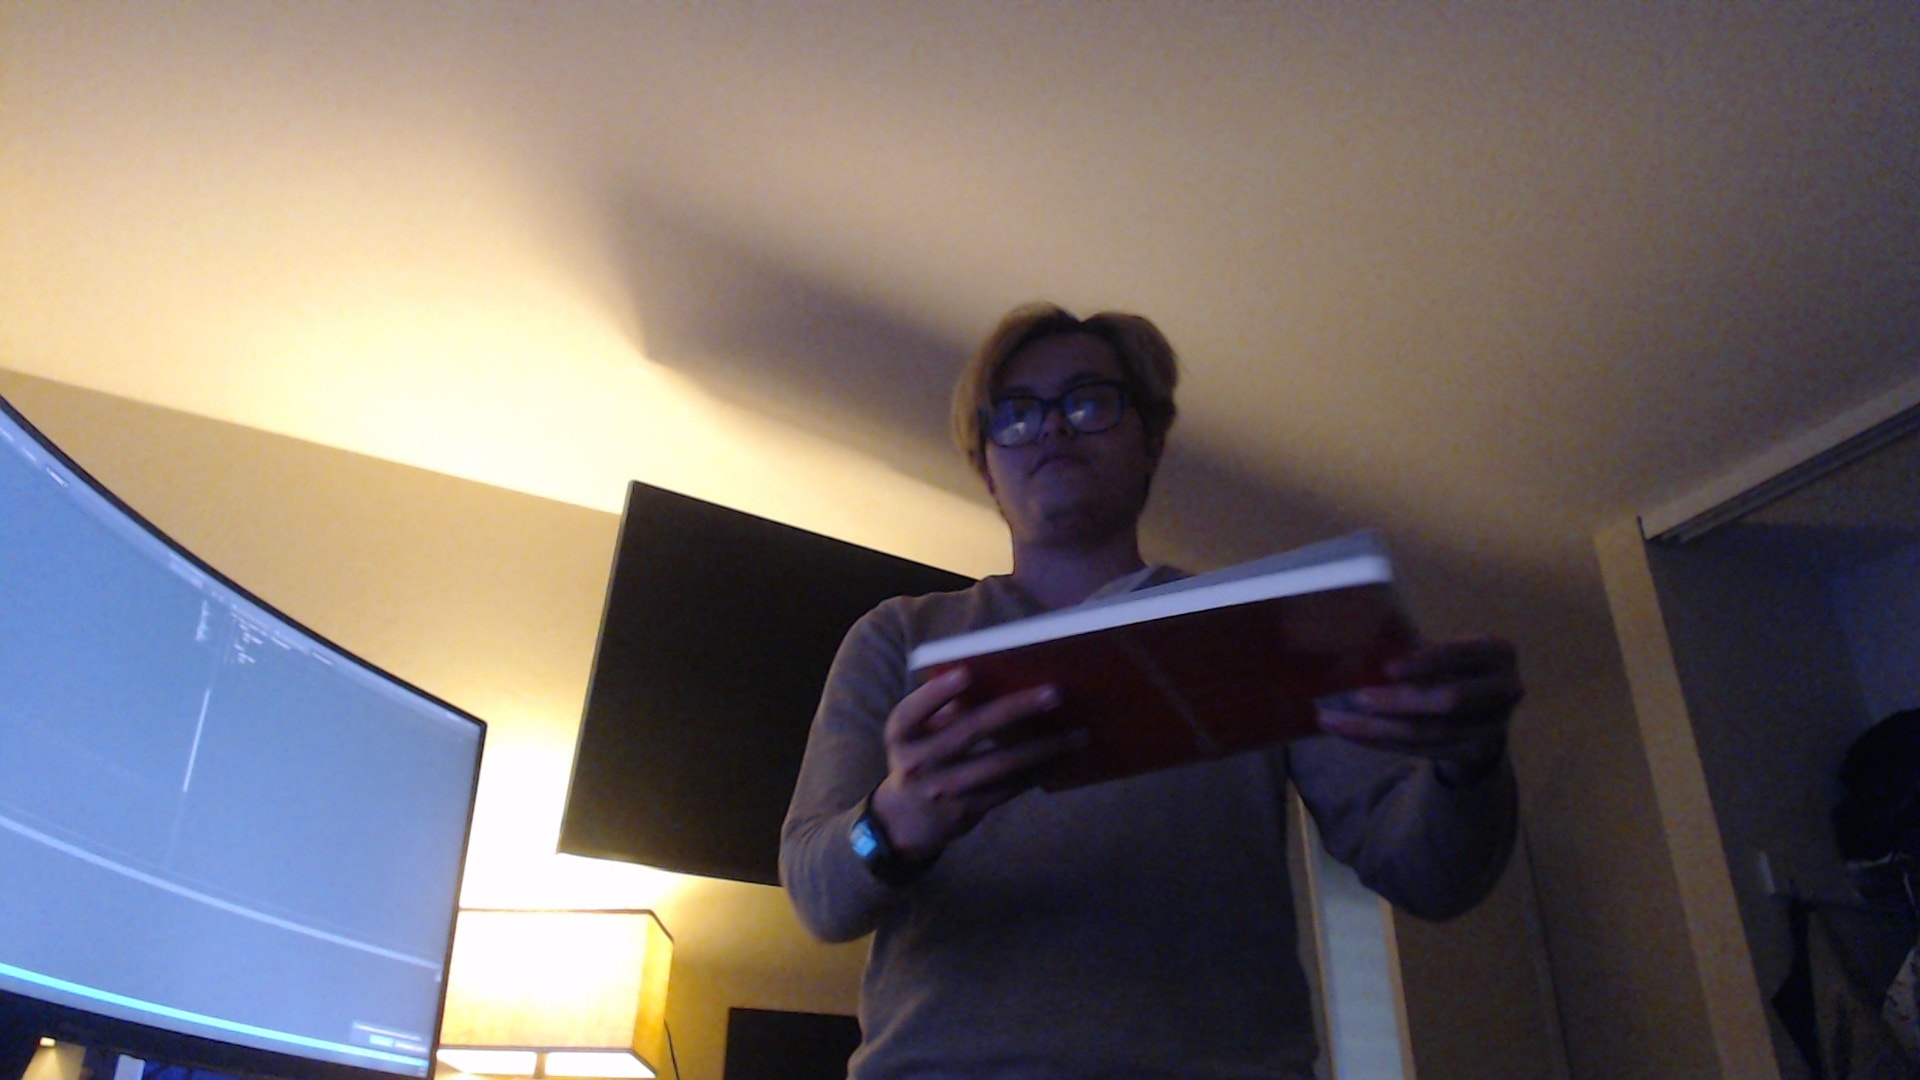book: (910, 533, 1425, 793)
